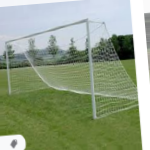goals: (3, 17, 139, 124)
